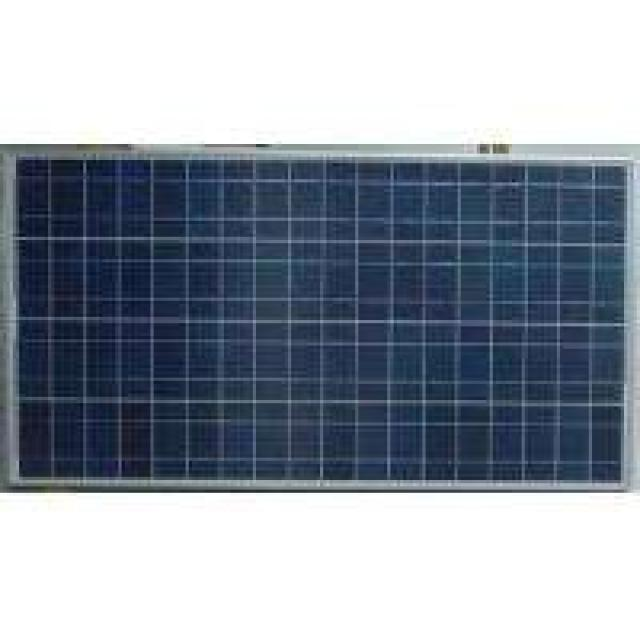dust-solar-panel: (16, 162, 623, 479)
